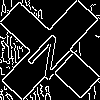N: (25, 25, 82, 83)
